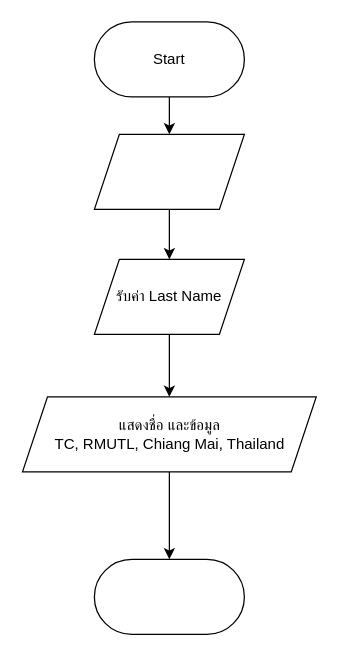
Image size: 338x656. Some labels were removed from this diagram. The box of each missing label's shape, as (x1, y1, x2, y2) in pixels:
END: (93, 558, 244, 634)
รับค่า First Name: (93, 133, 244, 209)
